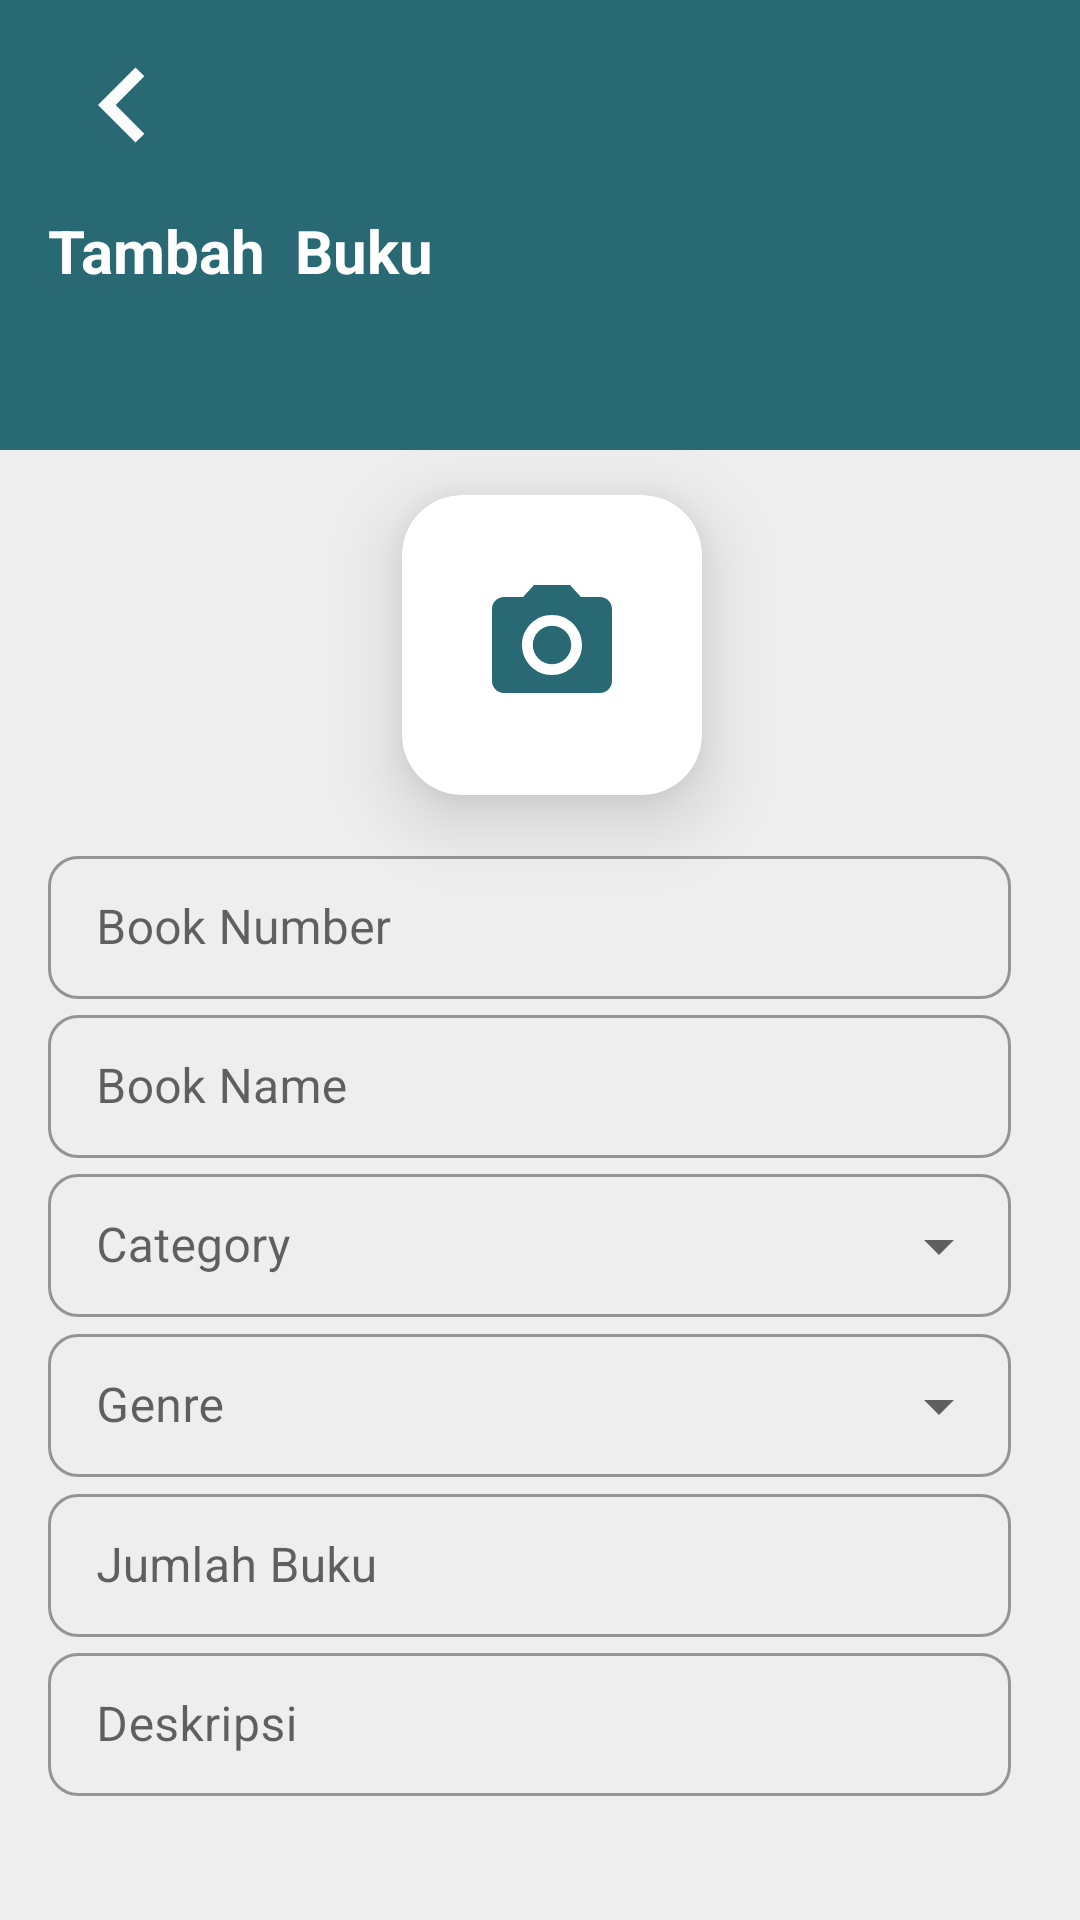

Where to tap for icons on this 1080px x 1920px app screen, as point (x, y):
add camera: point (552, 645)
back: point (121, 105)
